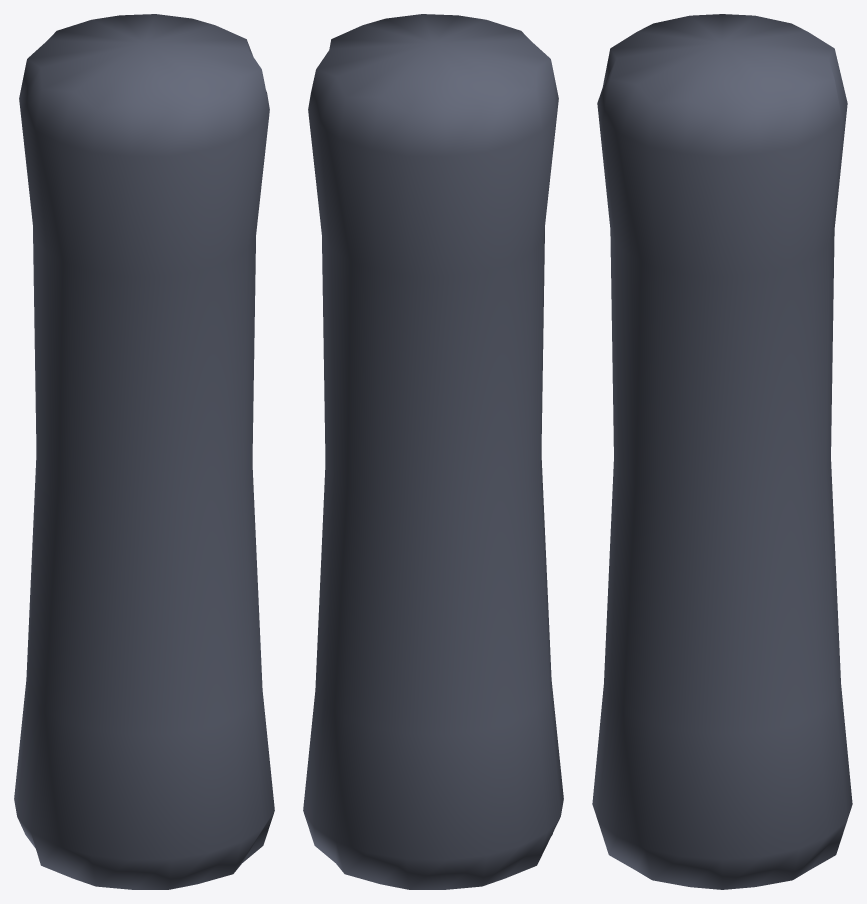
Rendered from pillar.glb.
3 renders of one model, left to right at view 1: azimuth 30°, elevation 25°; view 2: azimuth 150°, elevation 25°; view 3: azimuth 270°, elevation 25°, orthographic.
Visible parts, largest first — view 1: Pillar; view 2: Pillar; view 3: Pillar.
Part boxes in pixels (x1,y1,x2,y2): Pillar: (14,14,274,889); Pillar: (303,14,563,889); Pillar: (592,14,852,889).
Size of the model in its own units: 0.6927 by 2.37 by 0.688.
1 material, 1 textured.
